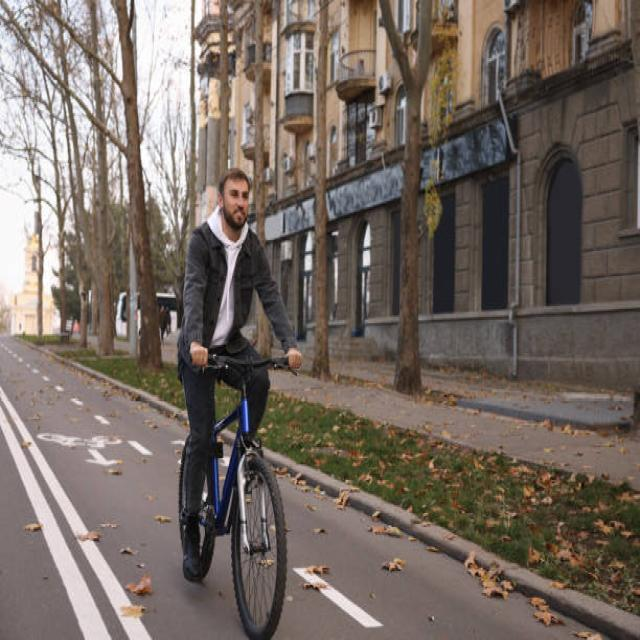bicycle: (178, 167, 301, 638)
